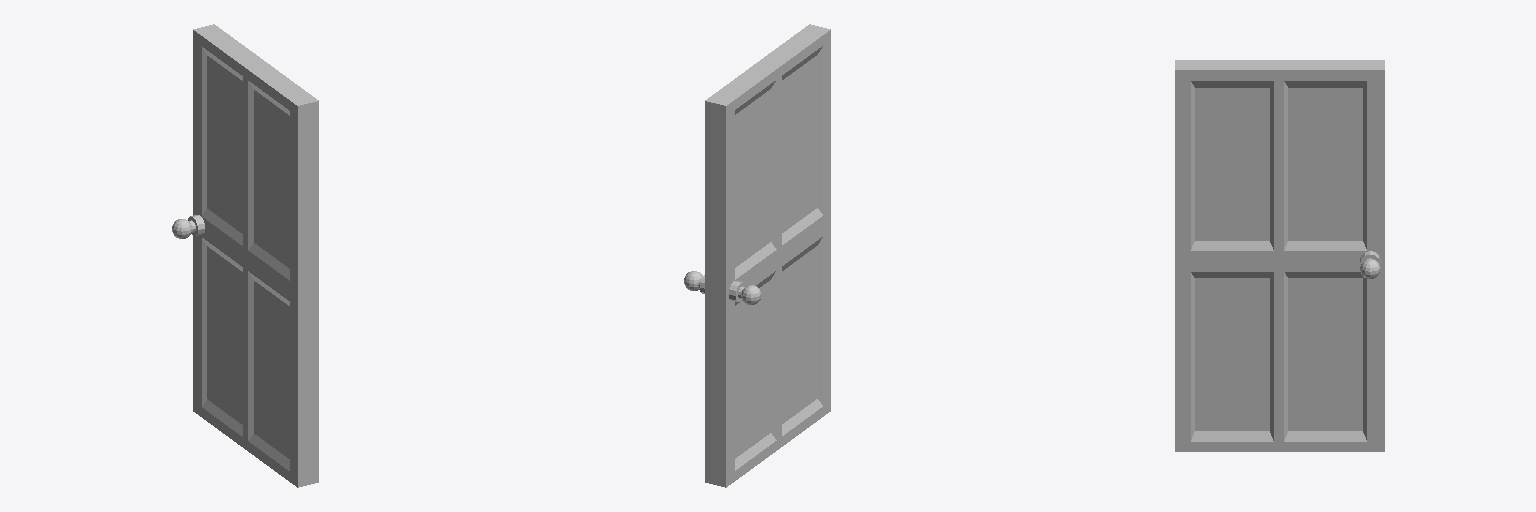
The model's file is door_2.obj.
3 renders of one model, left to right at view 1: azimuth 30°, elevation 25°; view 2: azimuth 150°, elevation 25°; view 3: azimuth 270°, elevation 25°, orthographic.
Parts seen in each view (by area): view 1: group[number redacted], group[number redacted], group[number redacted]; view 2: group[number redacted], group[number redacted], group[number redacted]; view 3: group[number redacted], group[number redacted].
Part boxes in pixels (x1,y1,x2,y2): group[number redacted]: (193,27,307,487); group[number redacted]: (205,24,318,484); group[number redacted]: (172,215,204,238); group[number redacted]: (716,27,830,487); group[number redacted]: (705,24,818,484); group[number redacted]: (728,281,761,304); group[number redacted]: (1175,65,1384,451); group[number redacted]: (1175,60,1384,64).
Size of the model in its own units: 0.4175 by 2.03 by 1.01.